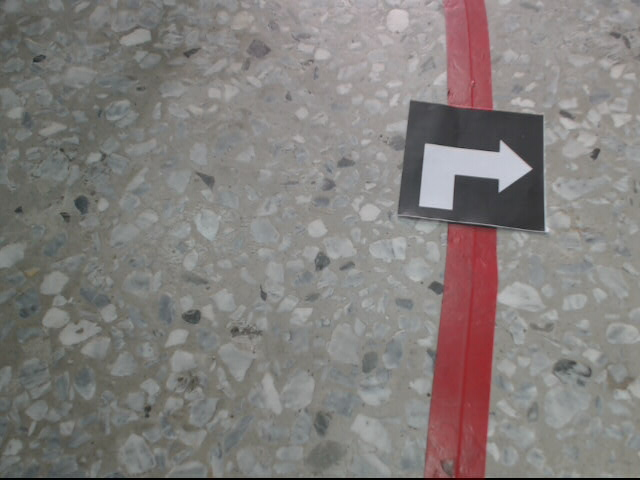right: (396, 97, 549, 235)
